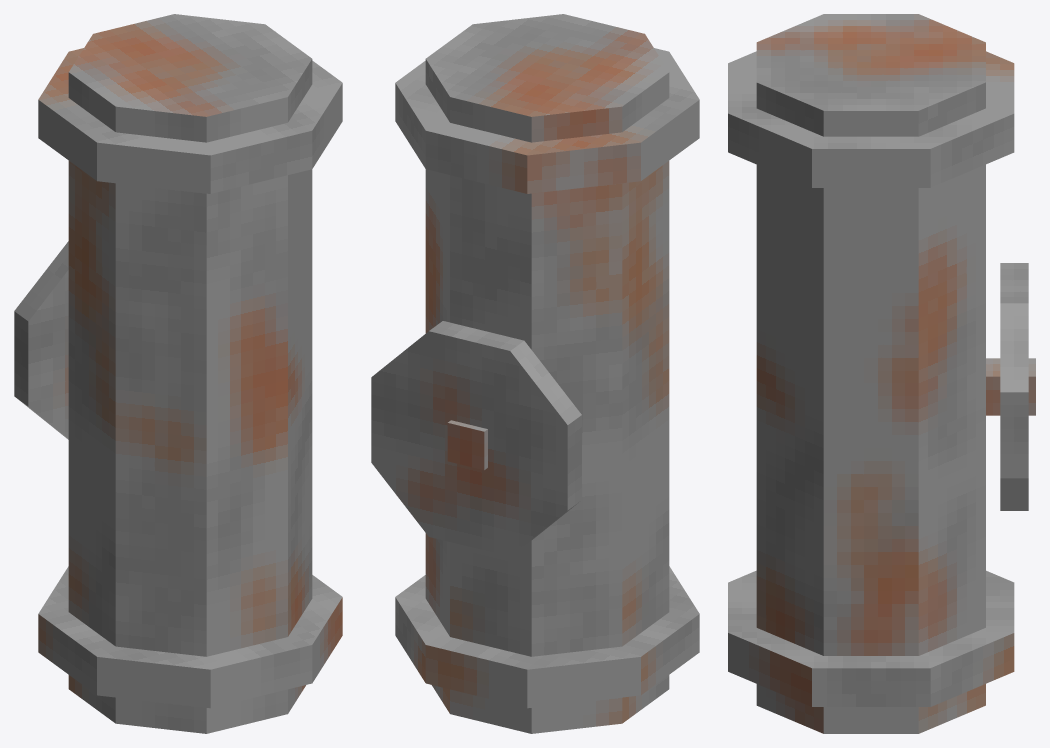
File: pipe_valve.gltf
3 views of the same model, side by side, from view 1: azimuth 30°, elevation 25°; view 2: azimuth 150°, elevation 25°; view 3: azimuth 270°, elevation 25° (orthographic).
Visible parts, largest first — view 1: cylinder (×4); view 2: cylinder (×4), cuboid; view 3: cylinder (×4), cuboid.
Boxes of the visible parts, left/top/right/bottom form: cylinder (×4): left=14, top=14, right=342, bottom=733; cylinder (×4): left=371, top=14, right=699, bottom=733; cuboid: left=447, top=420, right=487, bottom=470; cylinder (×4): left=728, top=14, right=1028, bottom=733; cuboid: left=986, top=358, right=1035, bottom=415.
Bounding box in the file's own units: 1.25 × 3 × 1.34.
Materials: 1 (1 with a texture image).
